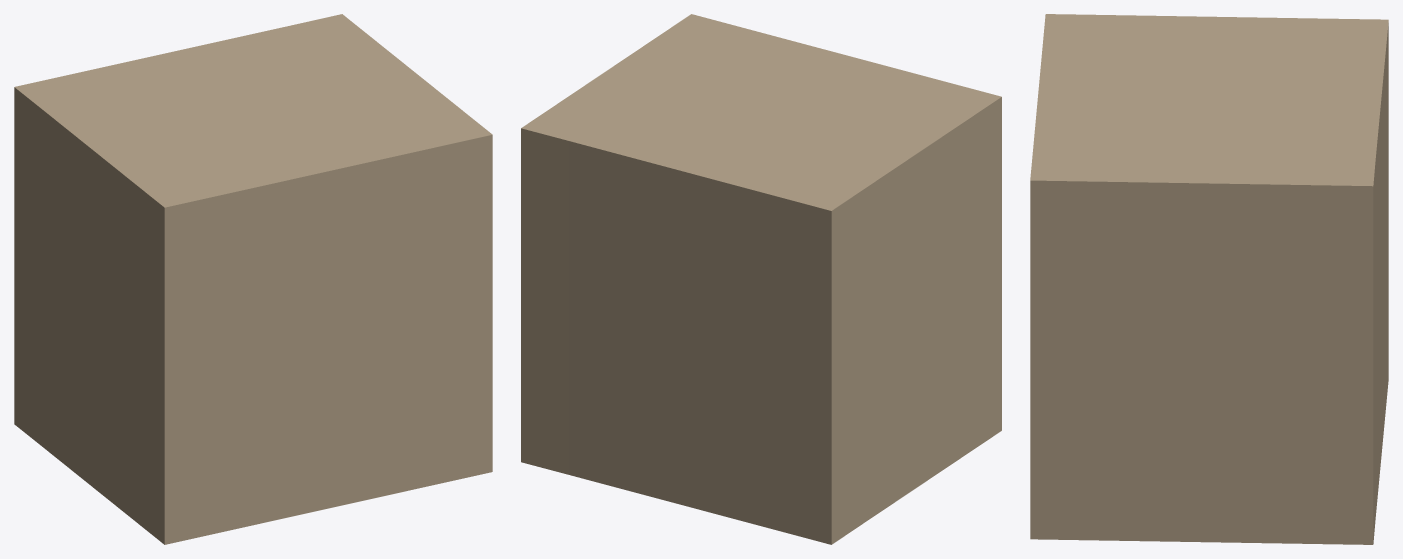
File: bld_101374653.dae
3 views of the same model, side by side, from view 1: azimuth 30°, elevation 25°; view 2: azimuth 150°, elevation 25°; view 3: azimuth 270°, elevation 25° (orthographic). The views are drawn at different scales.
Parts seen in each view (by area): view 1: bld_101374653; view 2: bld_101374653; view 3: bld_101374653.
Boxes of the visible parts, <box> form: bld_101374653: <box>14,14,492,544</box>; bld_101374653: <box>521,14,1001,544</box>; bld_101374653: <box>1030,14,1388,544</box>.
Size of the model in its own units: 8.23 by 7.25 by 8.
